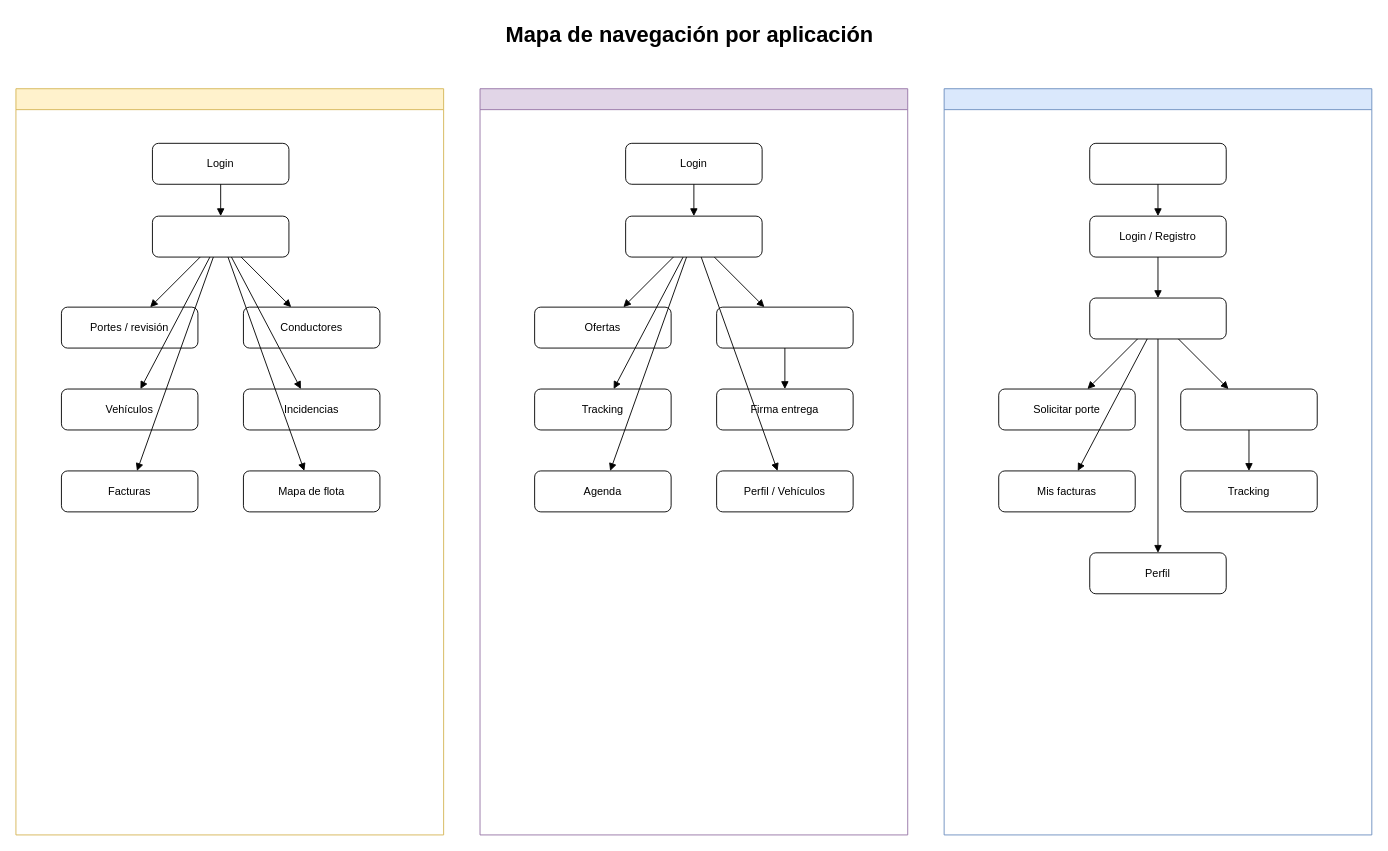
Image size: 1388x851. Some labels were removed from this diagram. The box of each missing label's shape, as (x1, y1, x2, y2) in pixels:
Aplicación de escritorio - Administración: (15, 88, 444, 835)
Aplicación móvil - Conductor: (479, 88, 908, 835)
Dashboard: (152, 215, 289, 257)
Inicio: (625, 215, 762, 257)
Landing: (1089, 142, 1226, 184)
Mis portes: (1180, 388, 1317, 430)
Panel cliente: (1089, 297, 1226, 339)
Portal web - Cliente: (943, 88, 1372, 835)
Portes: (716, 306, 853, 348)
